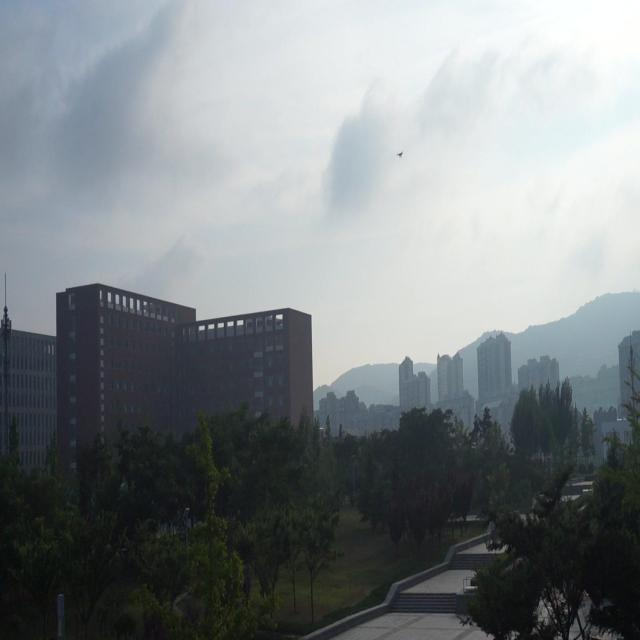drone: (396, 147, 404, 160)
